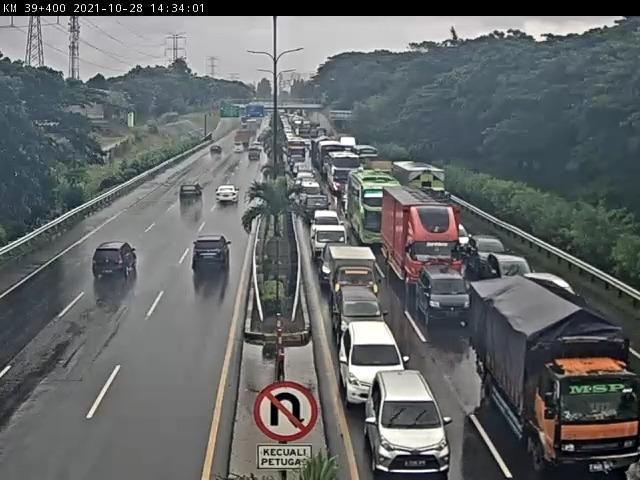bus: (349, 172, 402, 248), (323, 152, 363, 194)
car: (362, 368, 453, 478), (336, 323, 411, 405), (568, 306, 632, 381), (417, 263, 473, 329), (323, 247, 385, 305), (328, 287, 390, 344), (92, 241, 140, 285), (190, 235, 234, 276), (311, 223, 352, 265), (467, 236, 509, 271), (488, 254, 531, 282), (299, 195, 331, 225), (213, 187, 242, 213), (448, 222, 471, 253), (179, 184, 203, 208), (297, 179, 321, 200), (313, 209, 341, 227), (248, 146, 264, 165), (207, 145, 224, 161), (295, 168, 313, 183), (232, 143, 247, 159)
truck: (469, 273, 622, 450), (382, 186, 461, 296), (393, 160, 457, 214)
